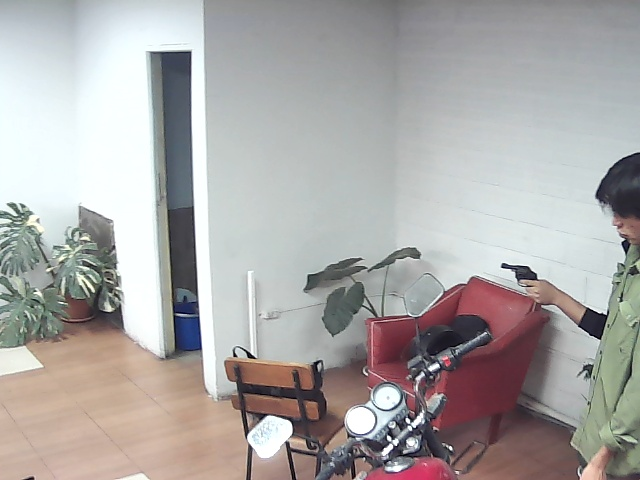pistola: (492, 259, 554, 314)
